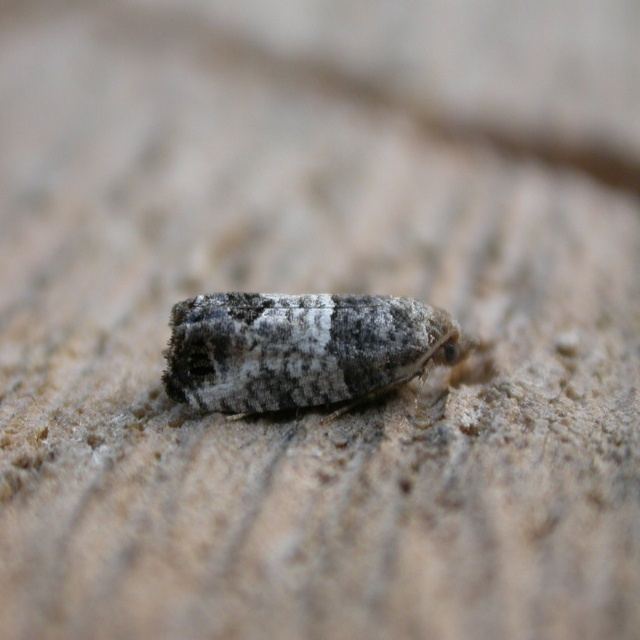Moths and butterflies: (161, 287, 465, 432)
